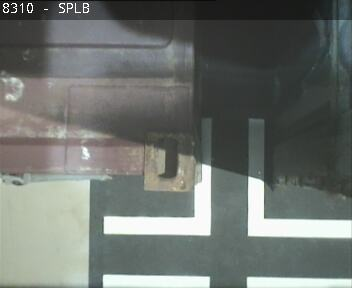groundmarker_1: (101, 118, 352, 237)
